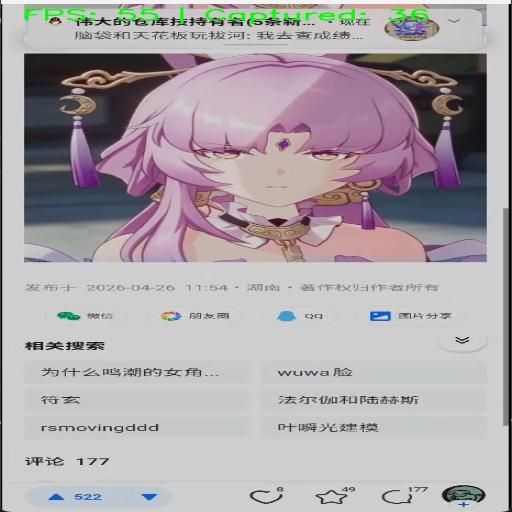butten: (27, 359, 254, 384), (261, 358, 485, 382), (28, 419, 251, 441), (262, 419, 477, 441), (261, 392, 486, 411), (28, 392, 257, 410), (374, 482, 438, 508), (434, 330, 488, 349)
